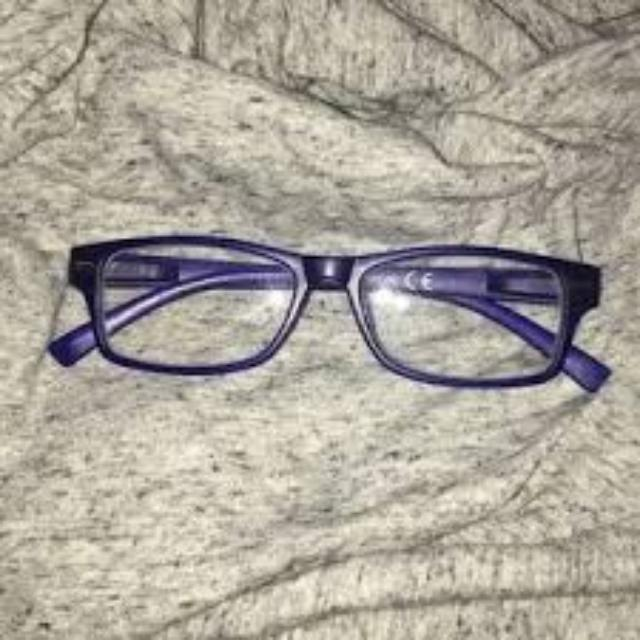glasses: (43, 238, 609, 398)
